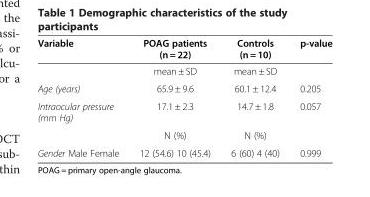table: (36, 36, 331, 158)
table column: (36, 36, 128, 158), (128, 36, 220, 158), (220, 36, 288, 158), (288, 36, 331, 158)
table column header: (36, 36, 331, 62)
table row: (36, 97, 331, 126), (36, 36, 331, 62), (36, 79, 331, 97), (36, 62, 331, 79), (36, 126, 331, 143), (36, 143, 331, 158)
table spanning cell: (36, 97, 128, 143)
